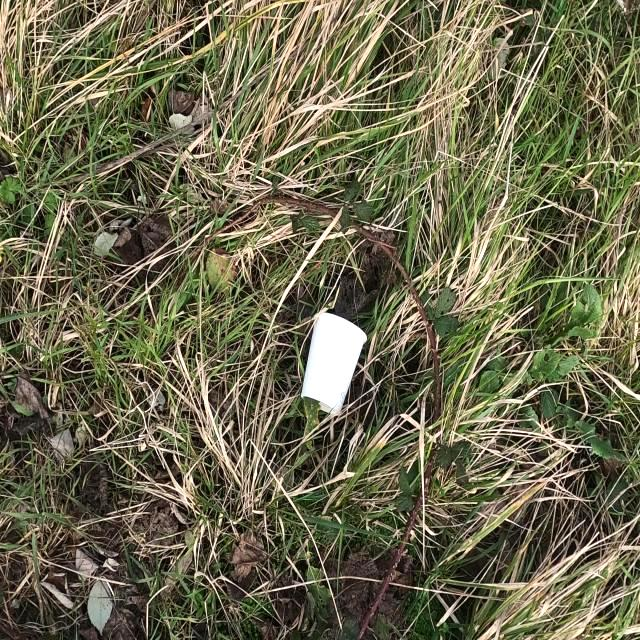Coffee Cup: (290, 308, 372, 422)
